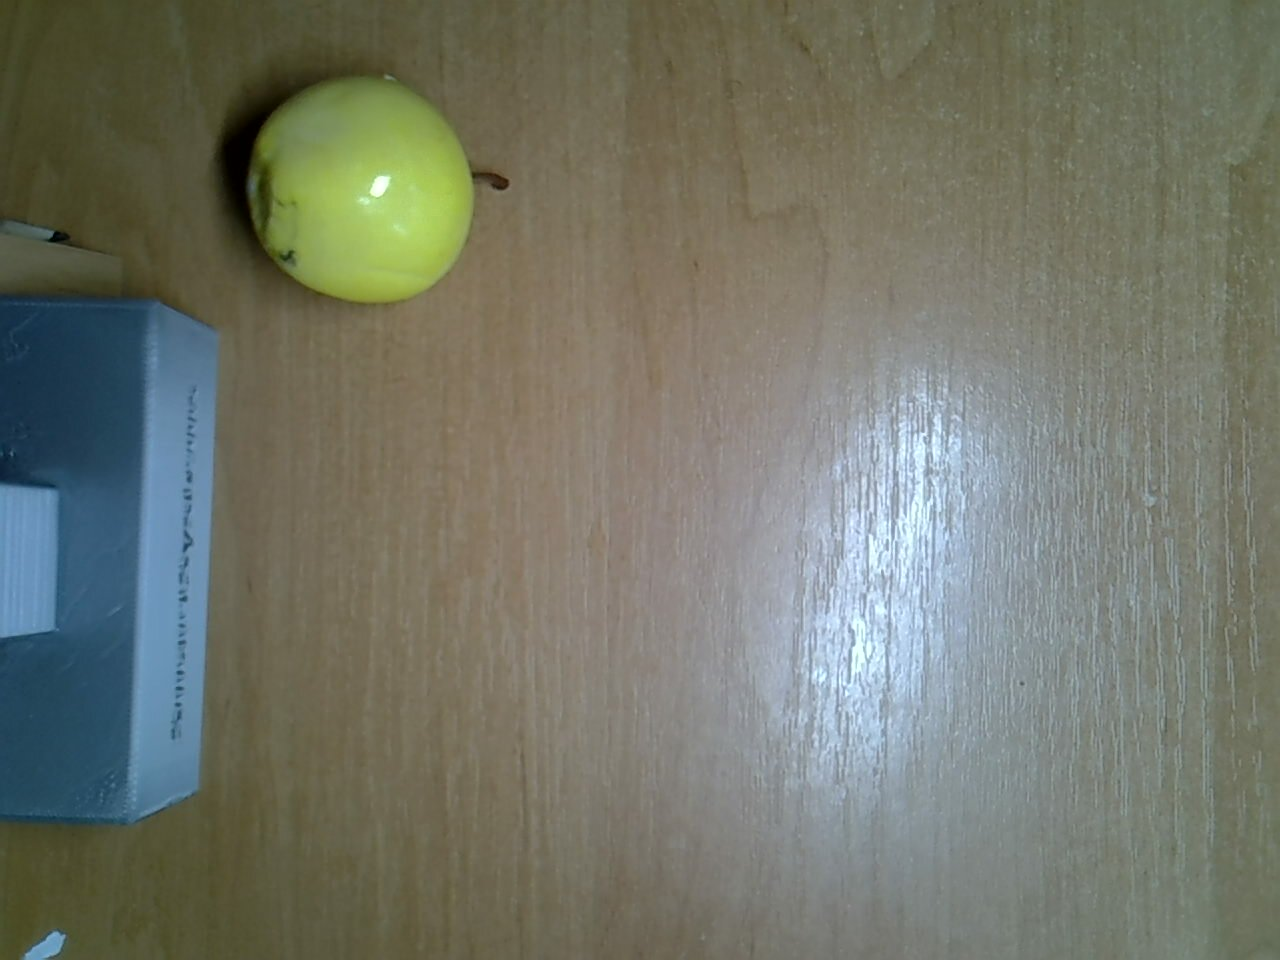apple: (225, 64, 518, 309)
